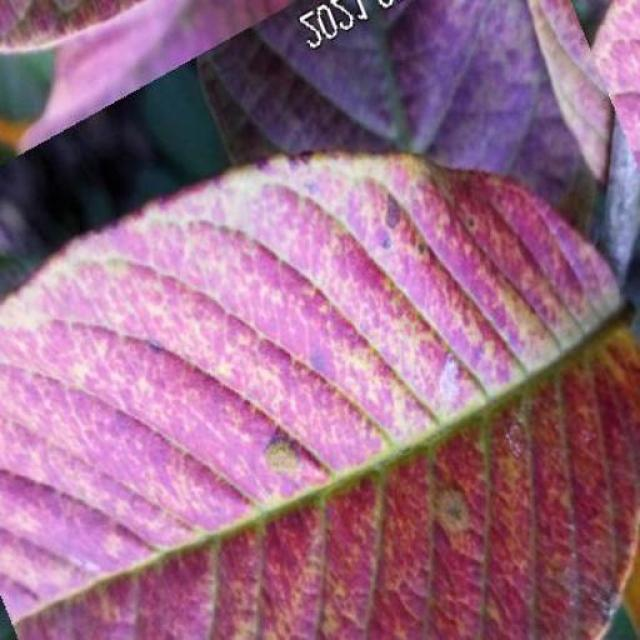Rust: (0, 155, 640, 640), (0, 0, 640, 276)
